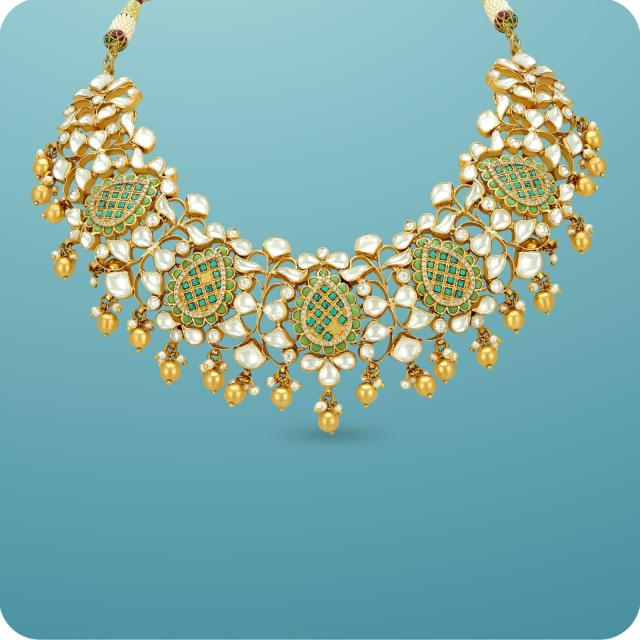missing gem: (329, 322, 340, 334), (201, 273, 210, 283)
